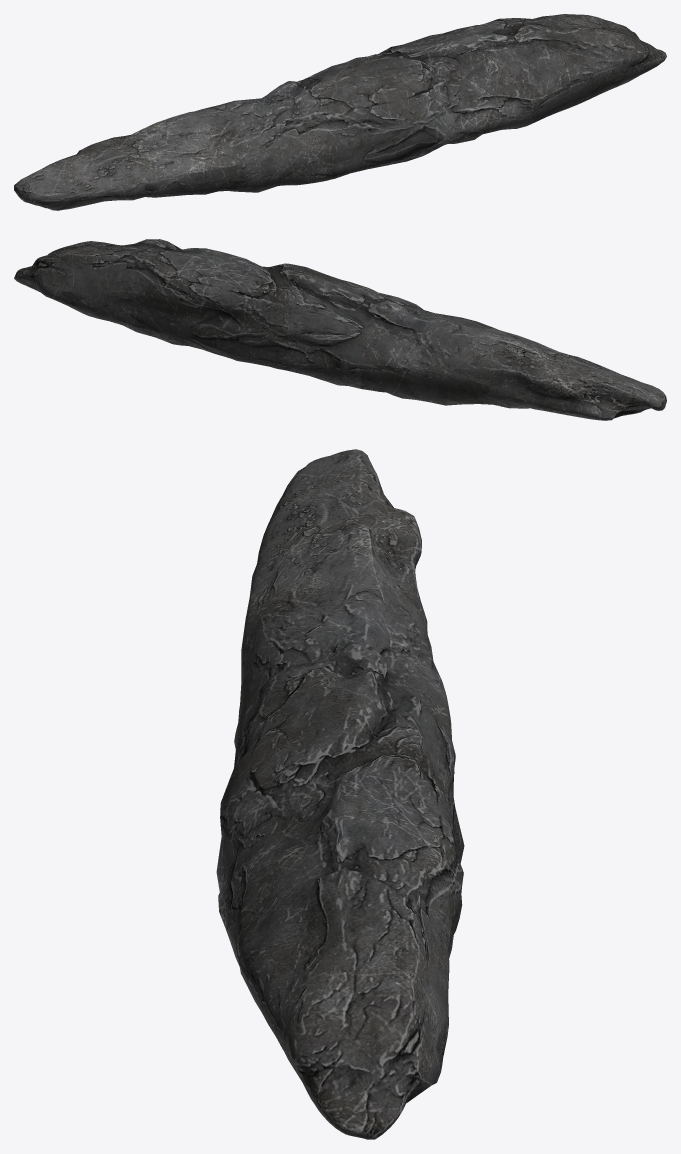
File: 1i-oumuamua.glb
The picture shows the model from 3 angles, top to bottom: view 1: azimuth 30°, elevation 25°; view 2: azimuth 150°, elevation 25°; view 3: azimuth 270°, elevation 25°; orthographic projection. The views are drawn at different scales.
Visible parts, largest first — view 1: oumuamua; view 2: oumuamua; view 3: oumuamua.
Boxes of the visible parts, x1,y1,x2,y2 form: oumuamua: [14, 14, 666, 210]; oumuamua: [14, 239, 666, 420]; oumuamua: [216, 449, 464, 1139].
Bounding box in the file's own units: 1.97 × 0.2716 × 0.3289.
Materials: 1 (1 with a texture image).
